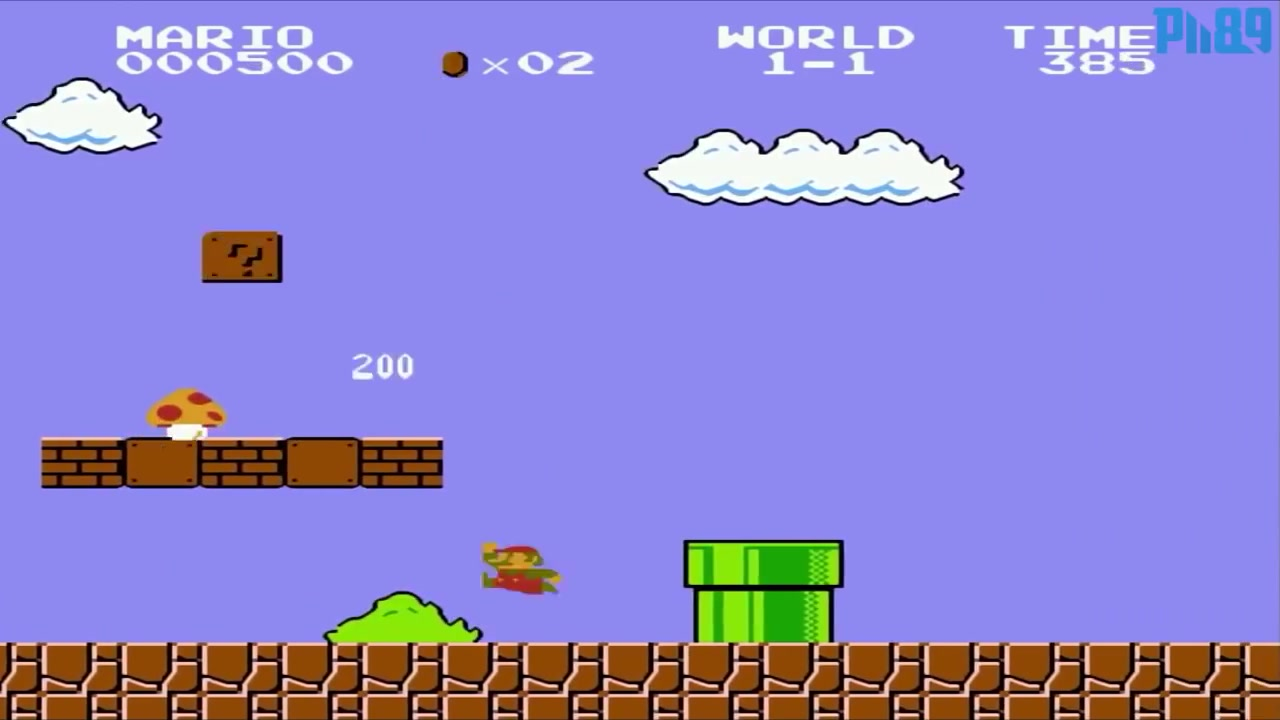mario: (474, 533, 565, 605)
